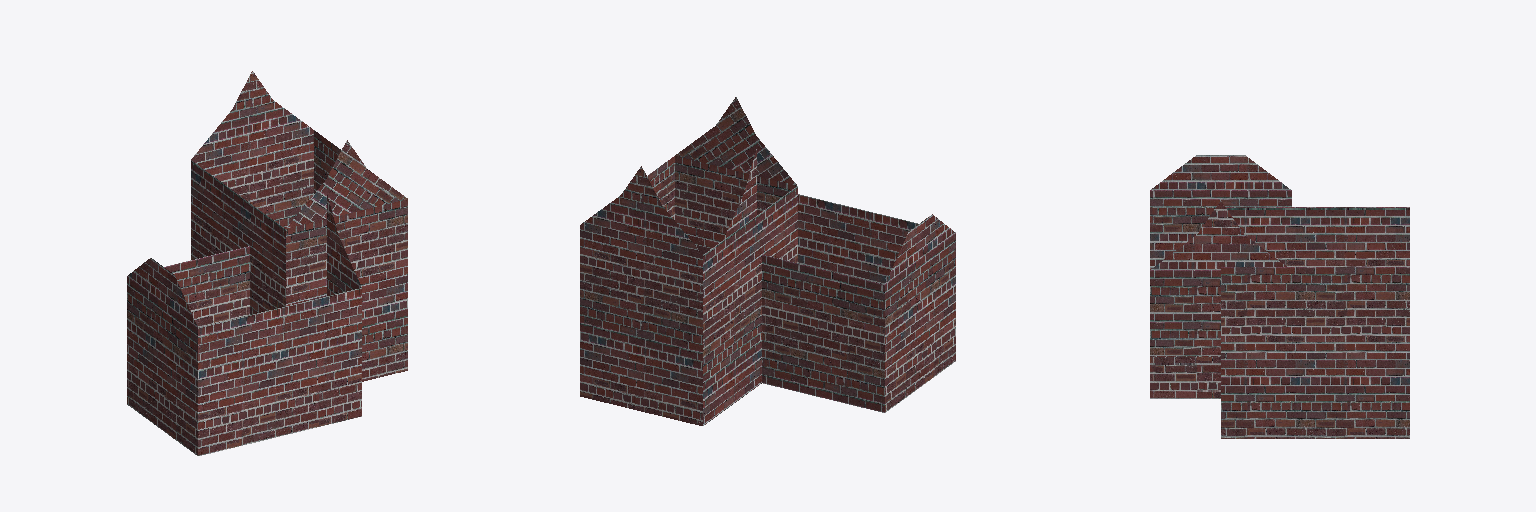
3 renders of one model, left to right at view 1: azimuth 30°, elevation 25°; view 2: azimuth 150°, elevation 25°; view 3: azimuth 270°, elevation 25°, orthographic.
Visible parts, largest first — view 1: Block_low, Box.001; view 2: Box.001, Block_low; view 3: Box.001, Block_low.
Part boxes in pixels (left/top/right/bottom): Block_low: left=127, top=195, right=361, bottom=455; Box.001: left=191, top=71, right=407, bottom=381; Box.001: left=580, top=97, right=797, bottom=425; Block_low: left=723, top=149, right=955, bottom=412; Box.001: left=1221, top=207, right=1409, bottom=438; Block_low: left=1150, top=155, right=1291, bottom=398.
Bounding box in the file's own units: 6 × 5.73 × 5.5.
2 materials, 1 textured.